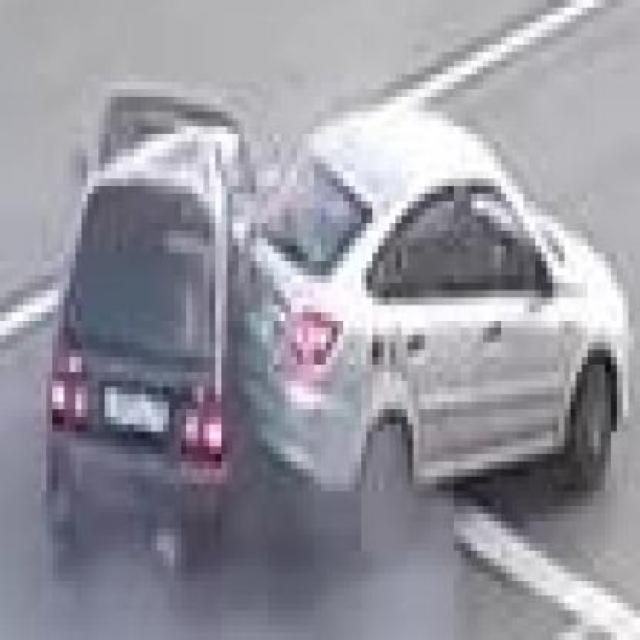accident: (0, 50, 632, 574)
